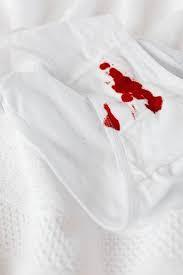blood: (98, 60, 164, 132)
